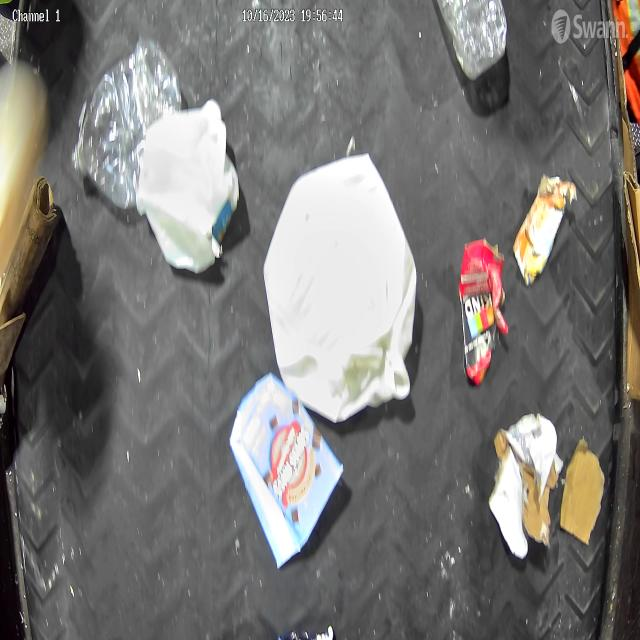can: (512, 165, 574, 286)
milk_jug: (264, 156, 420, 422), (134, 97, 240, 284)
plastic_bottle: (71, 33, 186, 215), (434, 0, 518, 96)
